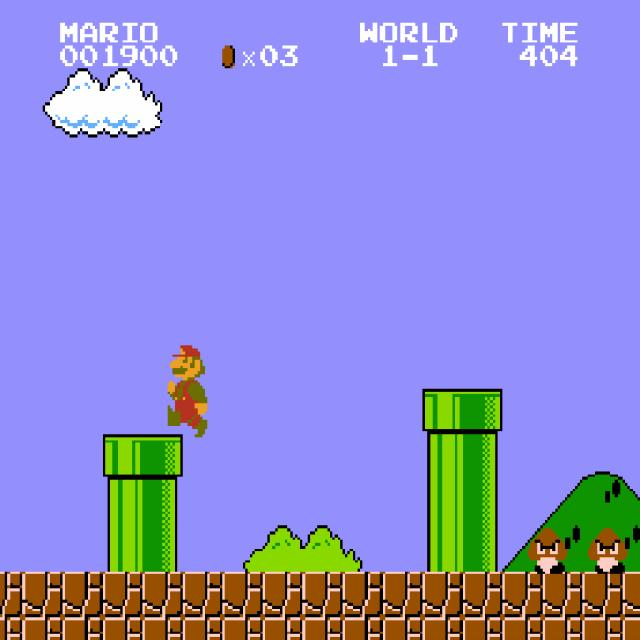big_mario: (165, 343, 208, 437)
goomba: (525, 526, 568, 574), (585, 526, 628, 574)
pipe: (102, 480, 143, 526), (142, 480, 183, 526), (422, 434, 463, 480), (422, 480, 463, 526), (462, 434, 503, 480), (462, 480, 503, 526), (102, 526, 143, 571), (142, 526, 183, 571), (422, 526, 463, 571), (462, 526, 503, 571)
pipe_head: (102, 434, 143, 480), (142, 434, 183, 480), (422, 389, 463, 434), (462, 389, 503, 434)
undestructible_block: (22, 572, 63, 617), (62, 572, 103, 617), (102, 572, 143, 617), (142, 572, 183, 617), (182, 572, 223, 617), (222, 572, 263, 617), (262, 572, 303, 617), (302, 572, 343, 617), (342, 572, 383, 617), (382, 572, 423, 617), (422, 572, 463, 617), (462, 572, 503, 617), (502, 572, 543, 617), (542, 572, 583, 617), (582, 572, 623, 617), (0, 572, 22, 617), (22, 617, 63, 640), (62, 617, 103, 640), (102, 617, 143, 640), (142, 617, 183, 640), (182, 617, 223, 640), (222, 617, 263, 640), (262, 617, 303, 640), (302, 617, 343, 640), (342, 617, 383, 640), (382, 617, 423, 640), (422, 617, 463, 640), (462, 617, 503, 640), (502, 617, 543, 640), (542, 617, 583, 640), (582, 617, 623, 640), (622, 571, 640, 617), (0, 617, 22, 640), (622, 617, 640, 639)
